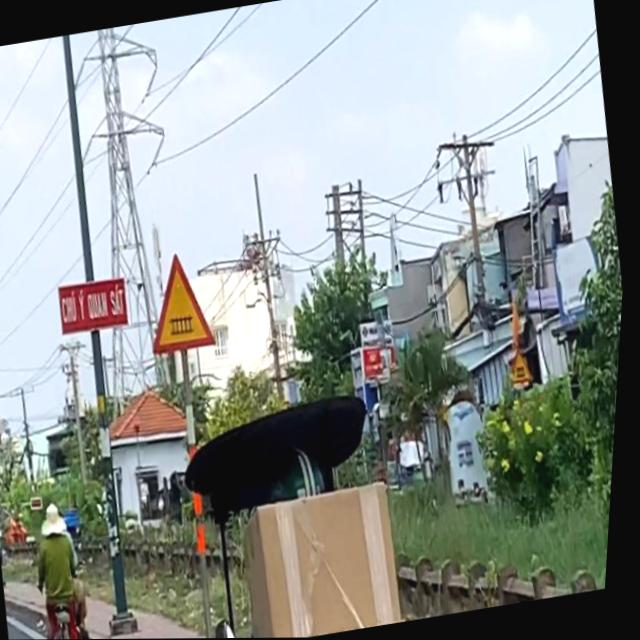Giao nhau voi duong sat co rao chan: (142, 247, 226, 357)
